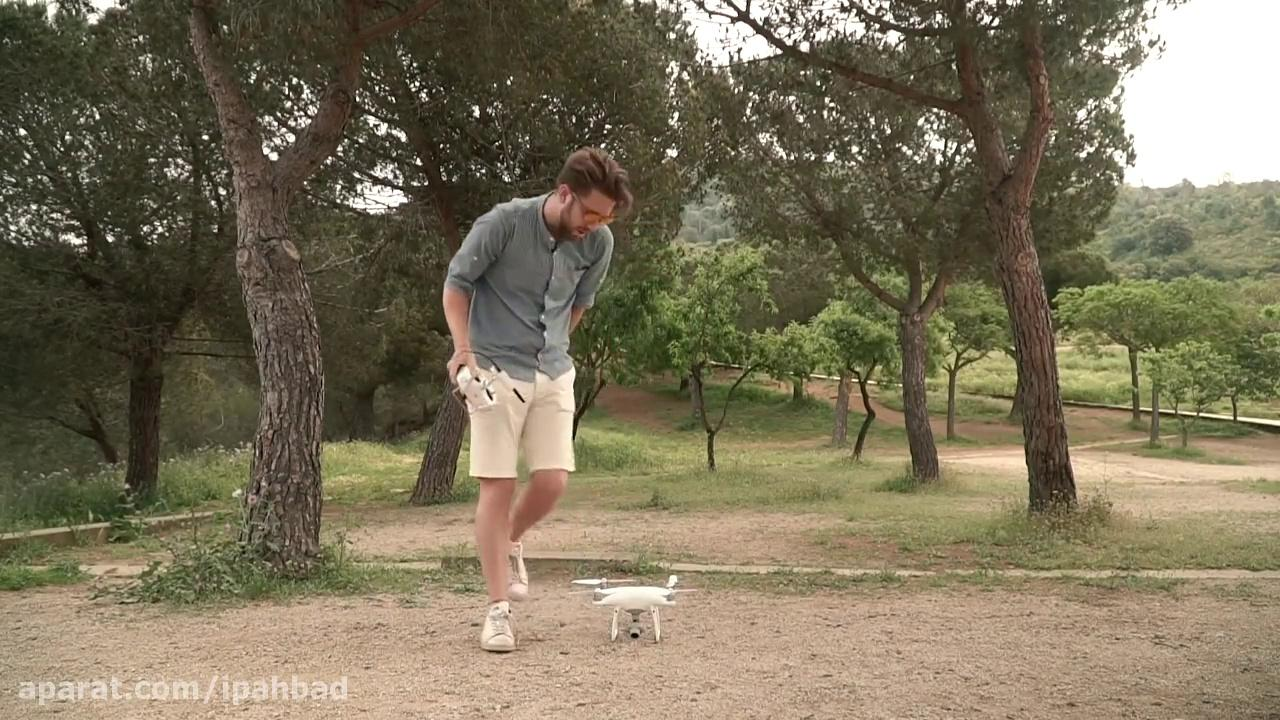drone: (574, 572, 693, 644)
